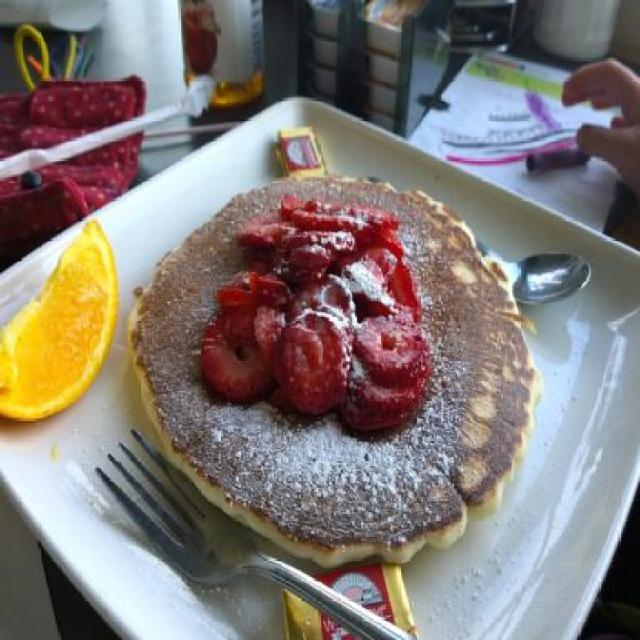Pancake: (120, 194, 542, 552)
